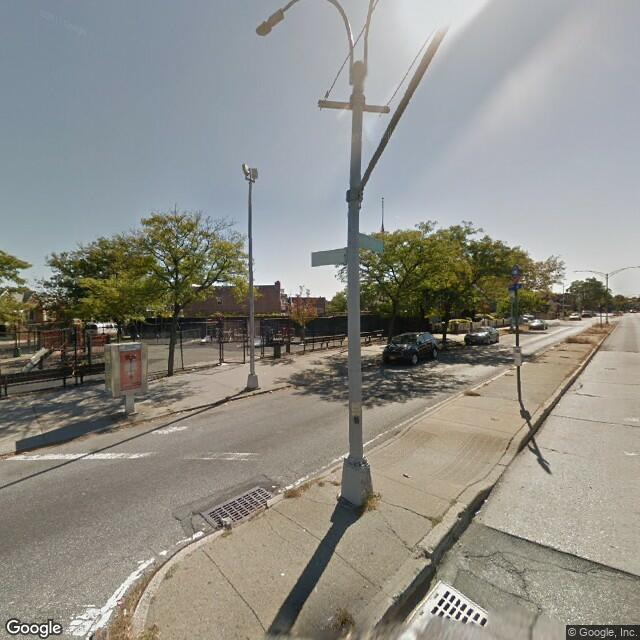litter: (217, 515, 234, 527), (189, 367, 199, 371)
